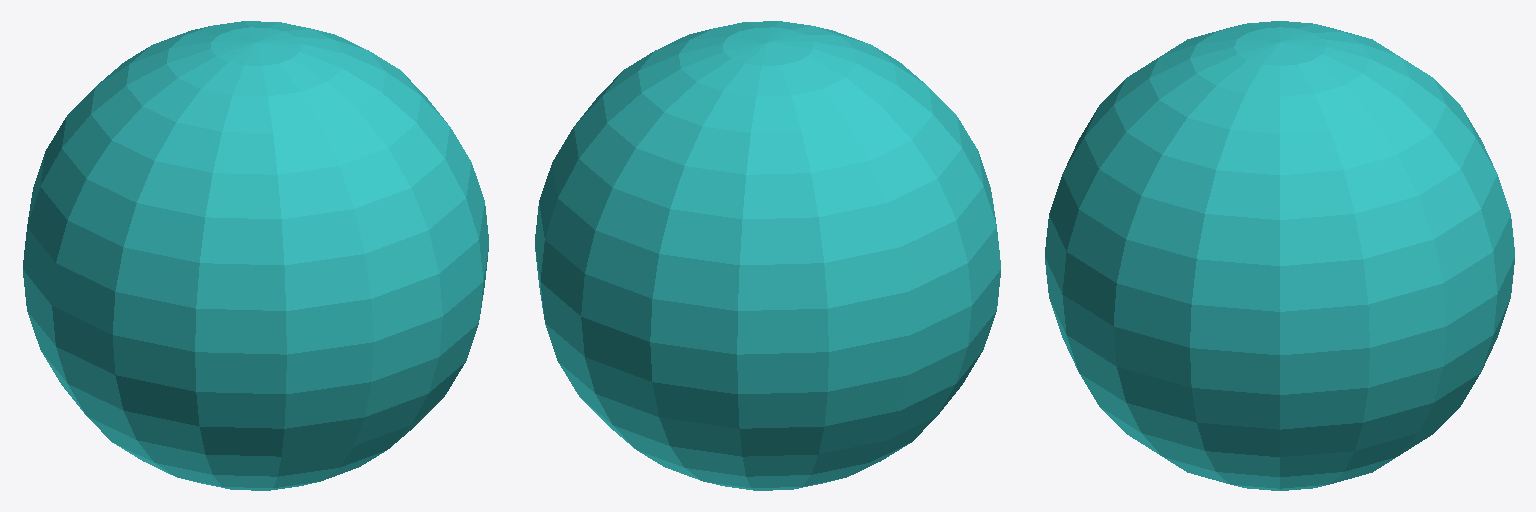
File: skybox.obj
3 views of the same model, side by side, from view 1: azimuth 30°, elevation 25°; view 2: azimuth 150°, elevation 25°; view 3: azimuth 270°, elevation 25° (orthographic).
Parts seen in each view (by area): view 1: Sphere; view 2: Sphere; view 3: Sphere.
Part boxes in pixels (left/top/right/bottom): Sphere: left=23, top=21, right=488, bottom=490; Sphere: left=535, top=21, right=1000, bottom=490; Sphere: left=1045, top=21, right=1514, bottom=490.
Bounding box in the file's own units: 8 × 8 × 8.